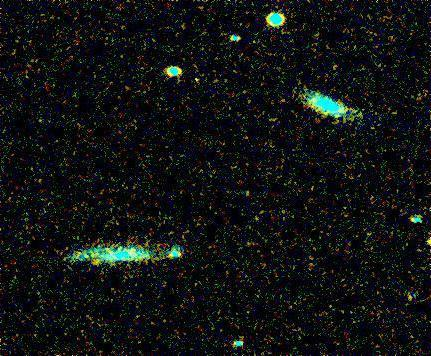star: (82, 247, 112, 277)
